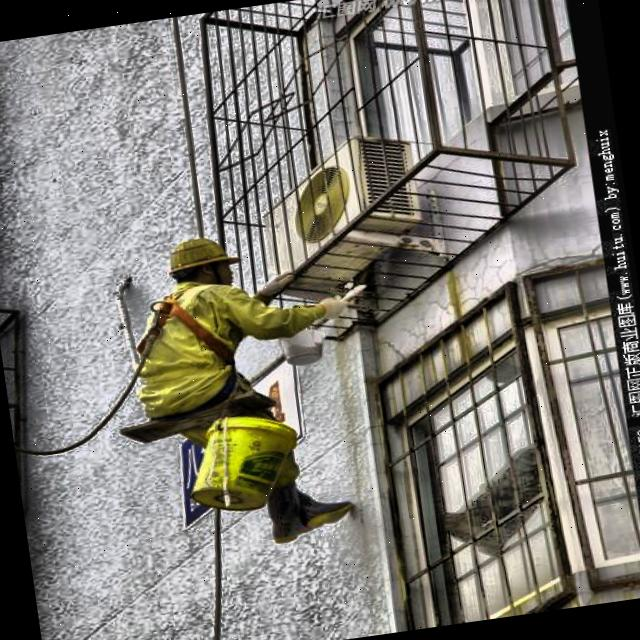helmet: (150, 222, 250, 306)
